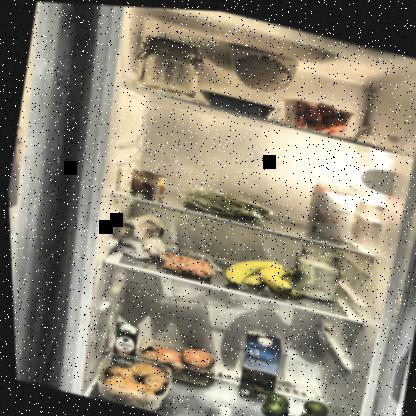banana: (218, 247, 310, 302)
corn: (126, 166, 166, 200)
green_beans: (175, 180, 284, 228)
heavy_cream: (106, 319, 137, 368)
lime: (252, 384, 327, 415)
milk: (231, 325, 284, 402)
onion: (127, 330, 216, 387)
potato: (87, 346, 174, 414)
shrimp: (153, 247, 214, 280)
strawberries: (278, 89, 355, 138)
